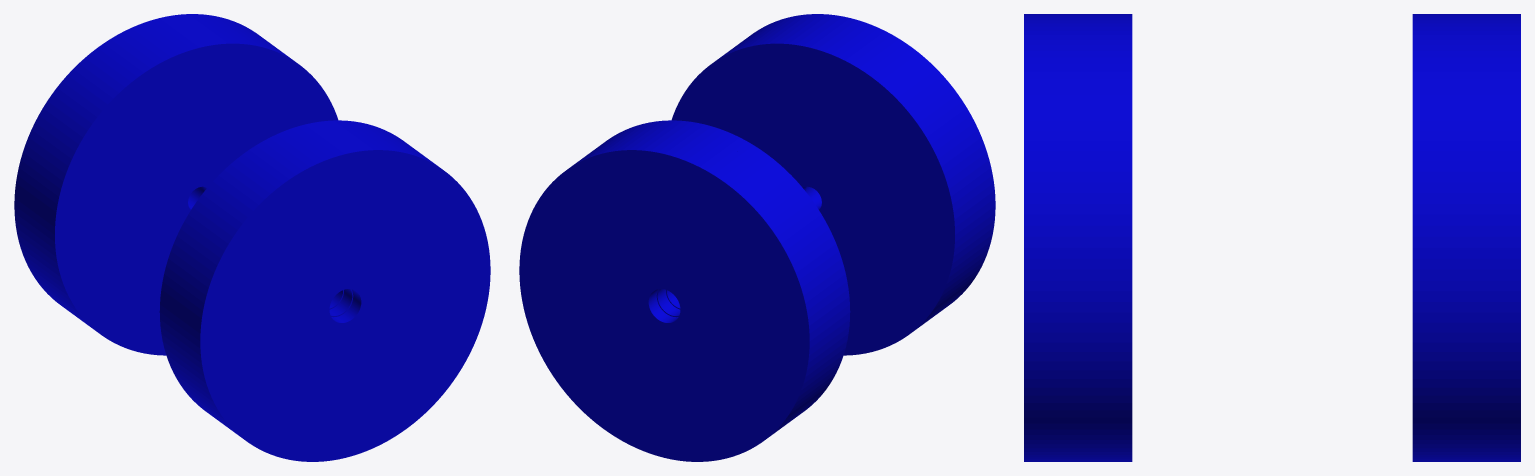
File: HCalEndcap.gltf
3 renders of one model, left to right at view 1: azimuth 30°, elevation 25°; view 2: azimuth 150°, elevation 25°; view 3: azimuth 270°, elevation 25°, orthographic. The views are drawn at different scales.
Visible parts, largest first — view 1: HCalEndcap; view 2: HCalEndcap; view 3: HCalEndcap.
Boxes of the visible parts, left/top/right/bottom form: HCalEndcap: left=14, top=14, right=490, bottom=461; HCalEndcap: left=519, top=14, right=995, bottom=461; HCalEndcap: left=1024, top=14, right=1520, bottom=461.
Size of the model in its own units: 8229 by 8229 by 9127.
